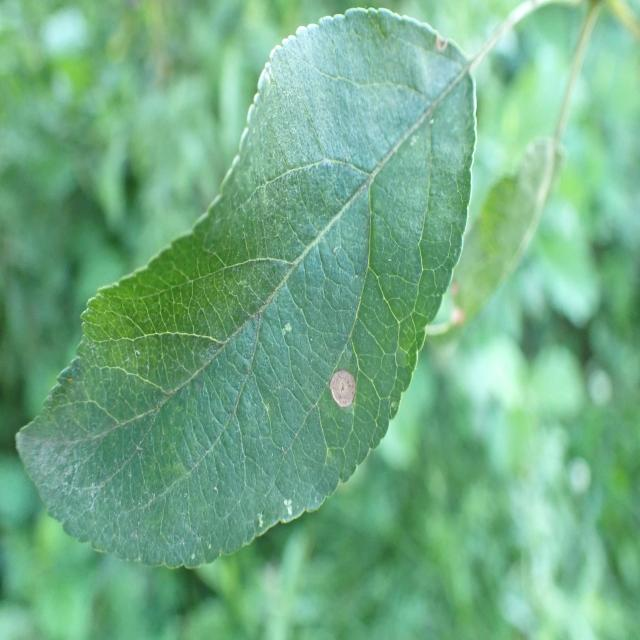Black Rot: (319, 360, 361, 430), (418, 28, 456, 72)
